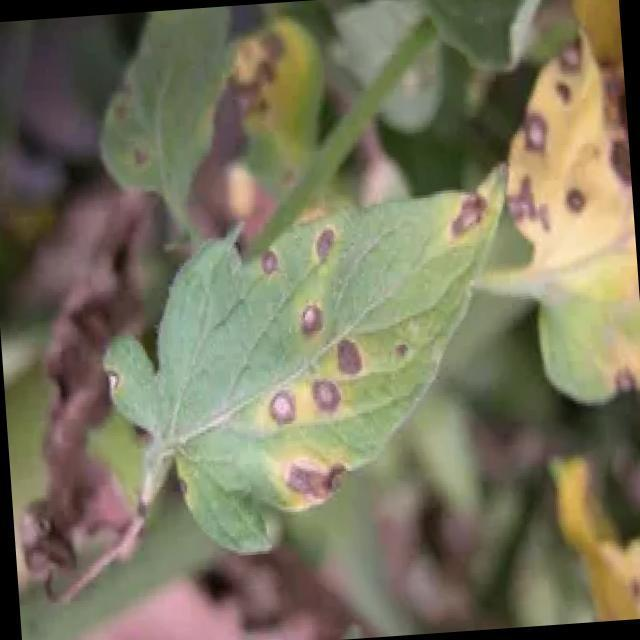Septoria: (243, 218, 377, 466), (517, 36, 611, 218)
